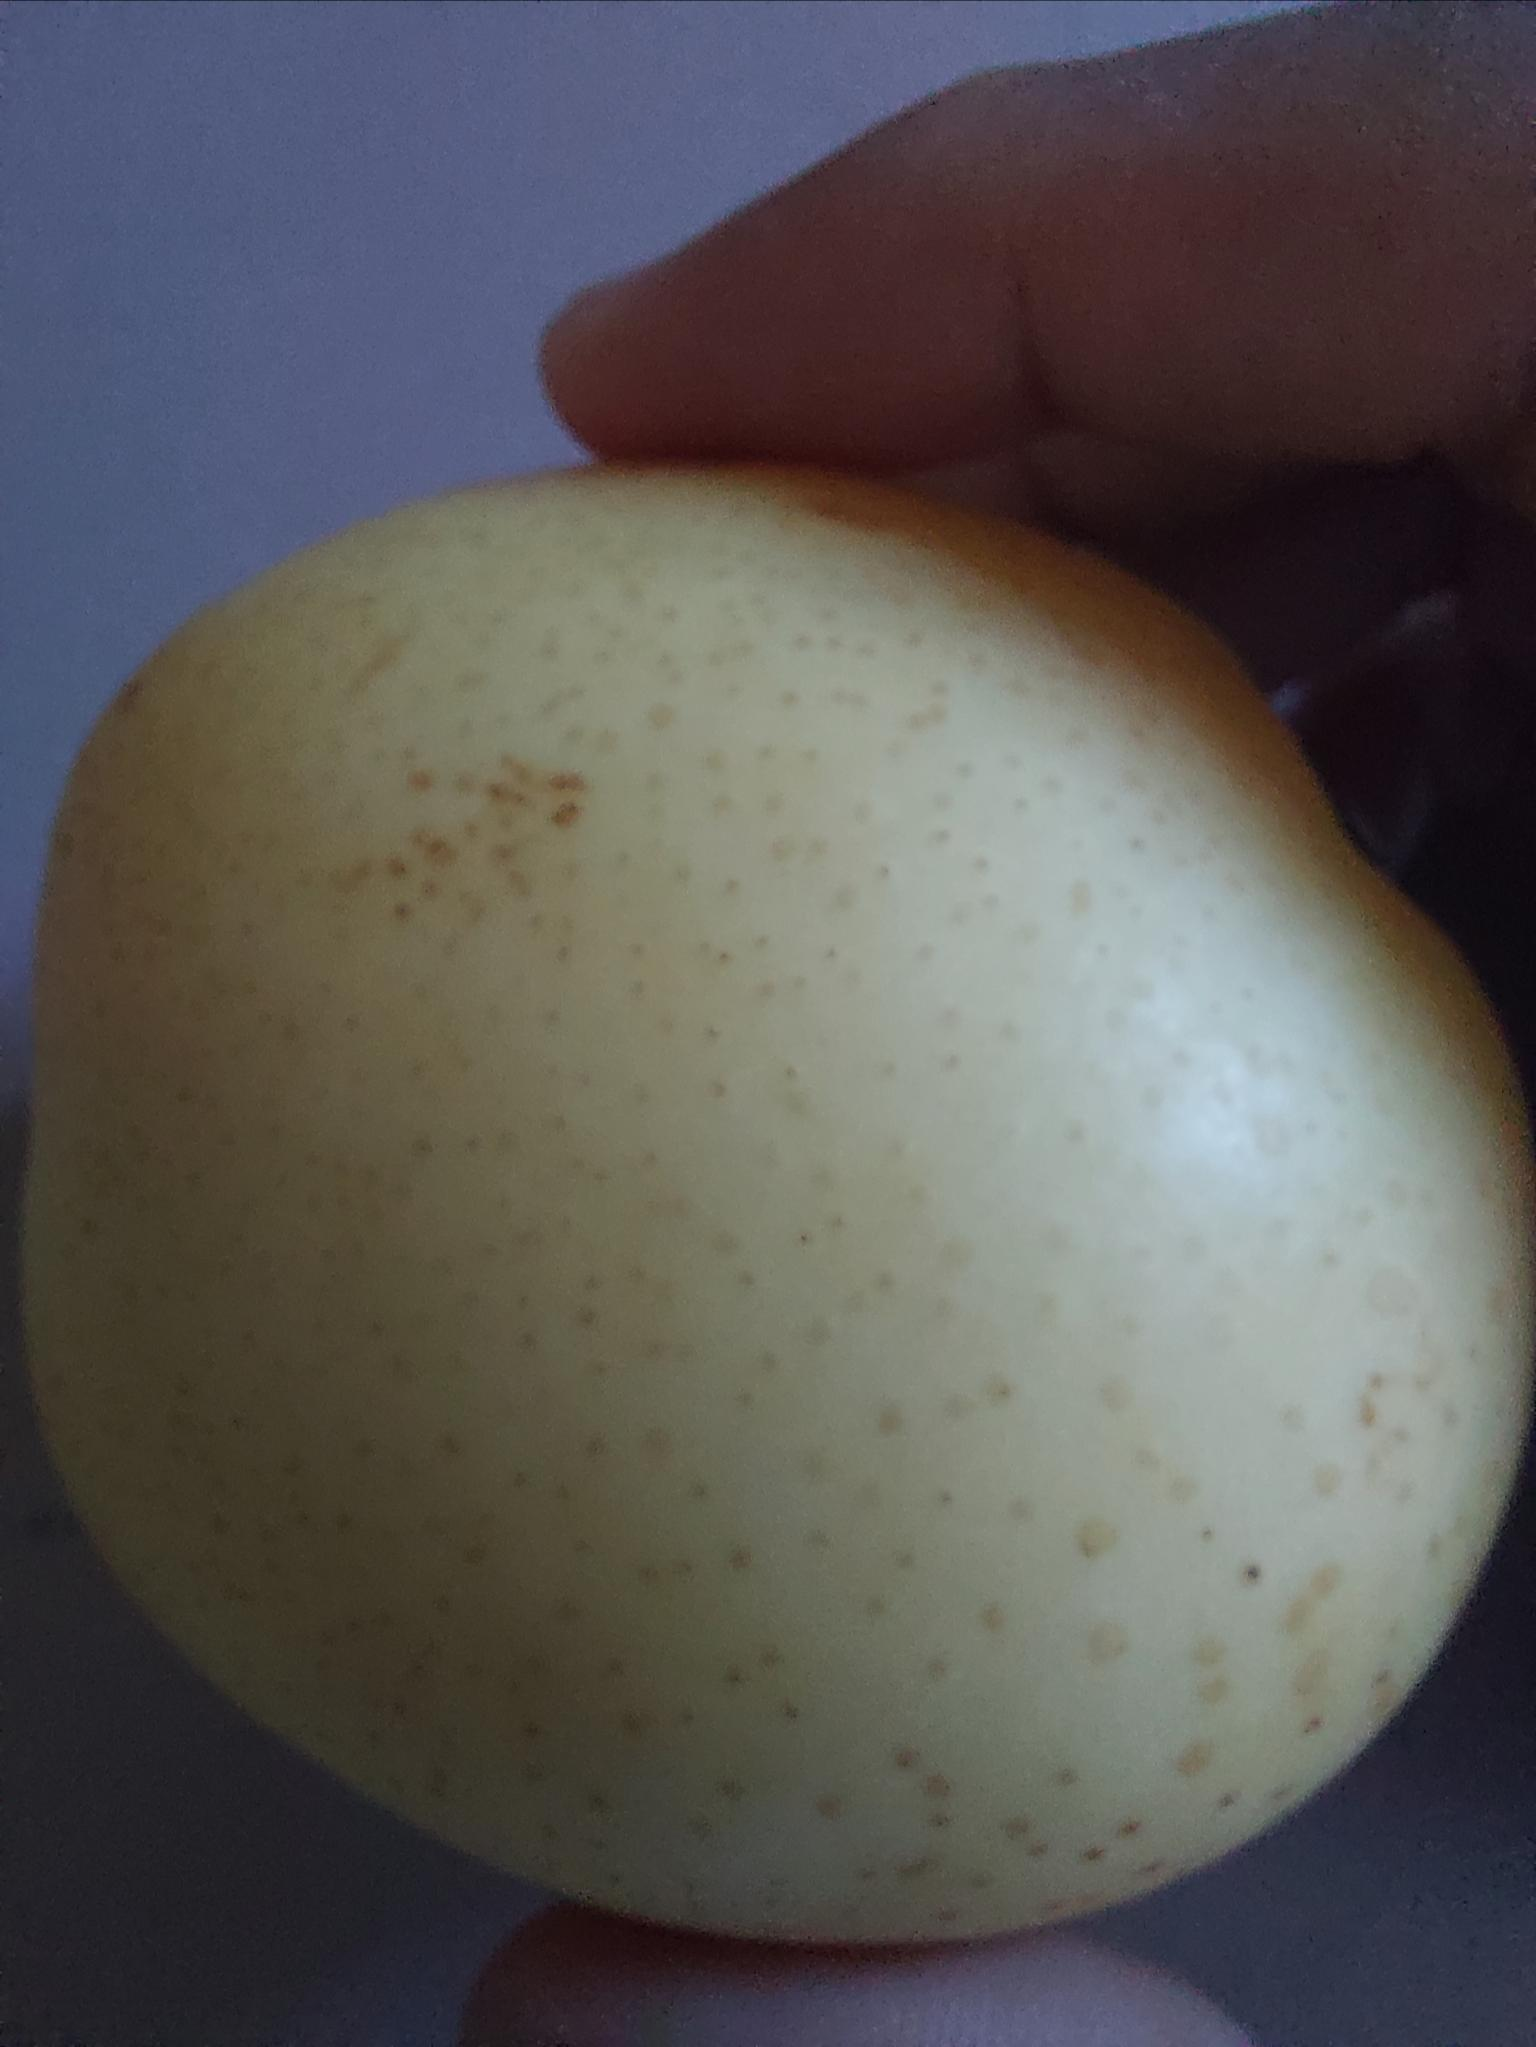Good Pear: (29, 450, 1536, 1945)
